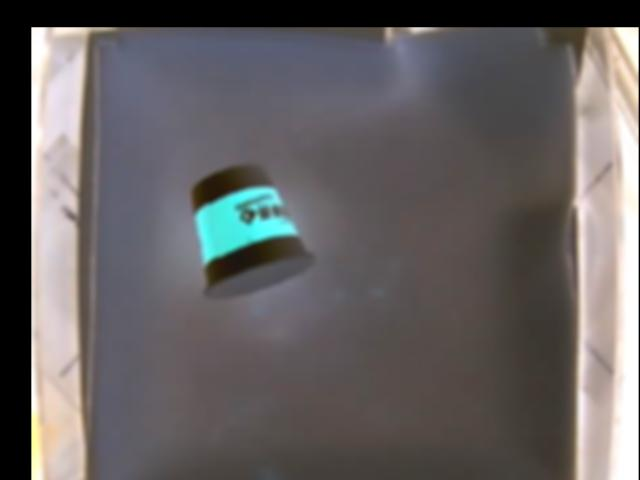Cup: (193, 162, 316, 303)
